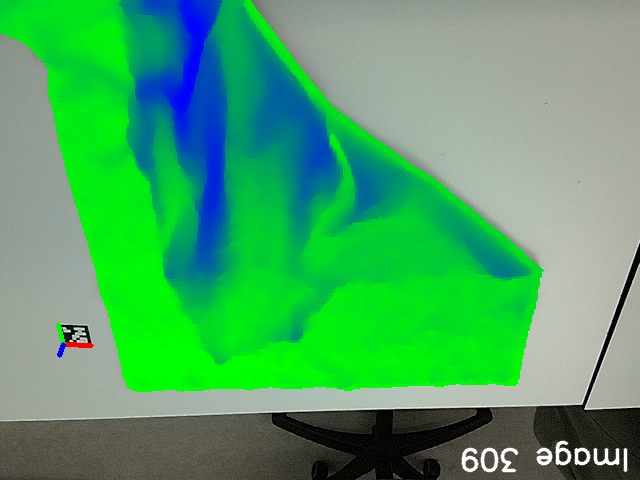V: (198, 332, 245, 373)
